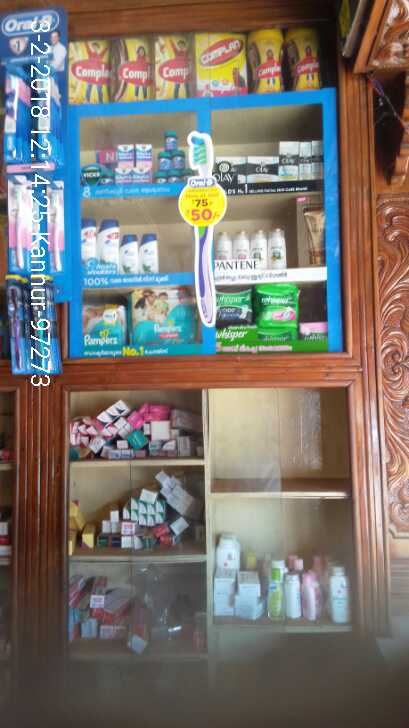oralcare: (1, 4, 74, 387)
vicks: (110, 131, 196, 186)
